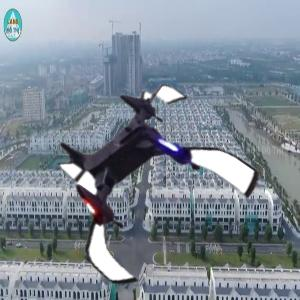drone: (41, 84, 247, 290)
